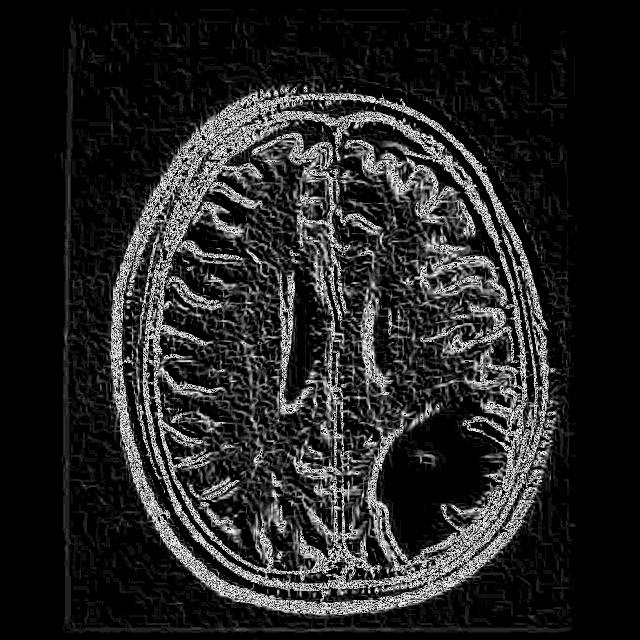Brain-Tumor: (363, 380, 527, 579)
